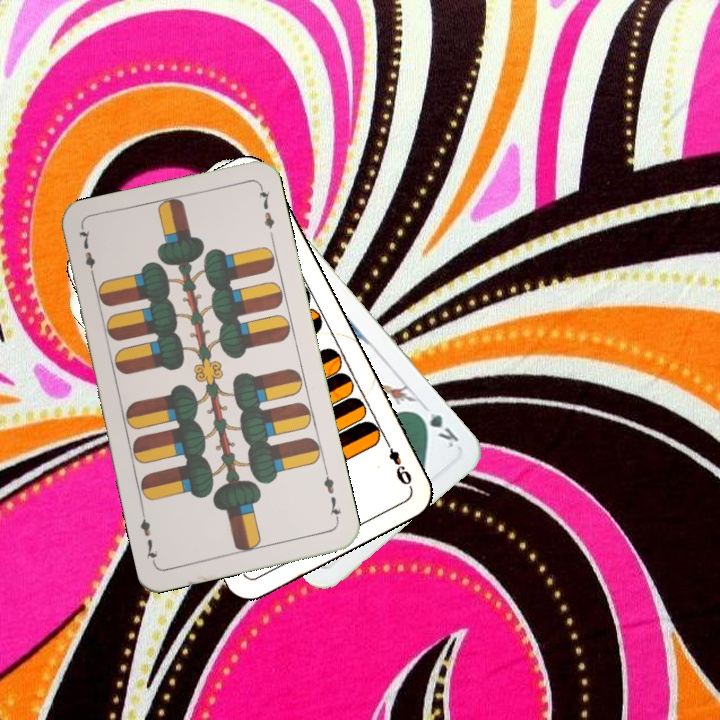E7: (319, 466, 344, 525), (75, 225, 98, 283)
E9: (381, 436, 415, 490)
GK: (412, 400, 462, 450)
